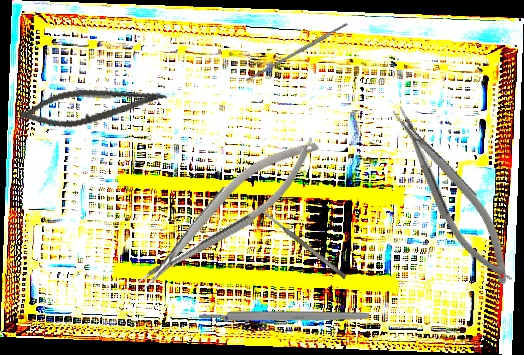Micro Scissor: (16, 72, 170, 137)
Needle Holder: (121, 125, 332, 300), (383, 94, 524, 296)
Scalpel Handle: (245, 22, 349, 83), (199, 311, 369, 321)
Spatula Surgical: (255, 204, 348, 280)
